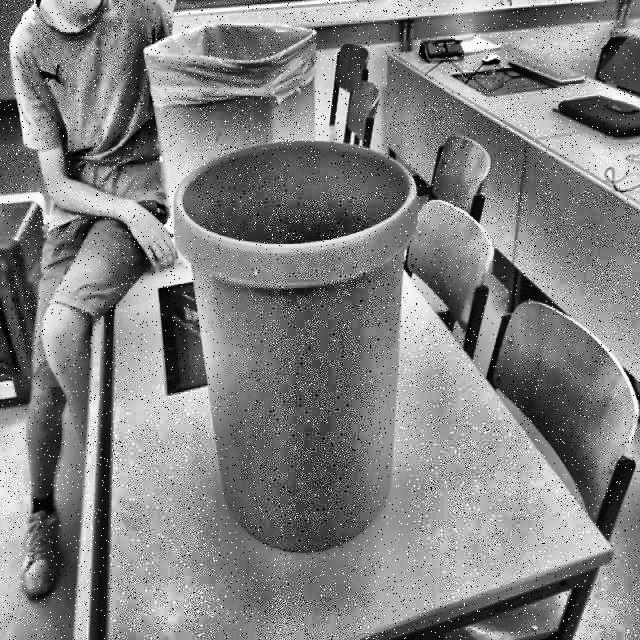Dustbin: (158, 136, 450, 576)
